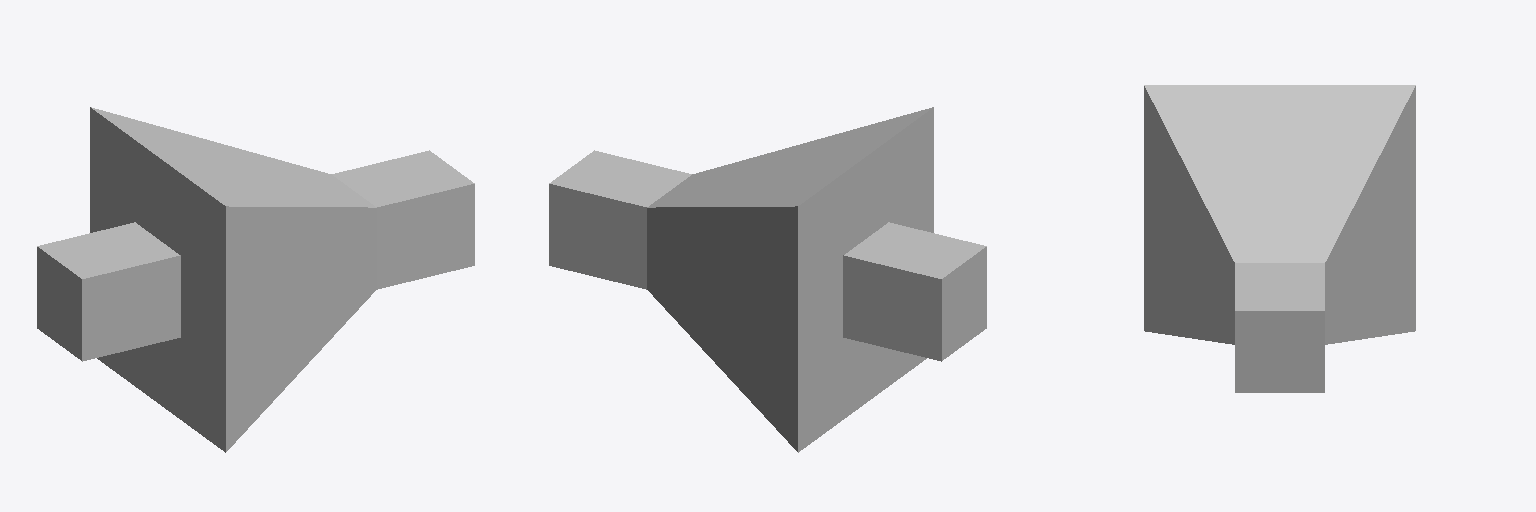
Rendered from inverter.obj.
The picture shows the model from 3 angles: view 1: azimuth 30°, elevation 25°; view 2: azimuth 150°, elevation 25°; view 3: azimuth 270°, elevation 25°; orthographic projection.
Visible parts, largest first — view 1: pasted__pasted__pCube8 pasted__group24 group30; view 2: pasted__pasted__pCube8 pasted__group24 group30; view 3: pasted__pasted__pCube8 pasted__group24 group30.
Boxes of the visible parts, x1=… form: pasted__pasted__pCube8 pasted__group24 group30: x1=37, y1=107, x2=474, y2=452; pasted__pasted__pCube8 pasted__group24 group30: x1=549, y1=107, x2=986, y2=452; pasted__pasted__pCube8 pasted__group24 group30: x1=1144, y1=85, x2=1415, y2=392.
Bounding box in the file's own units: 1 × 0.6 × 0.6.